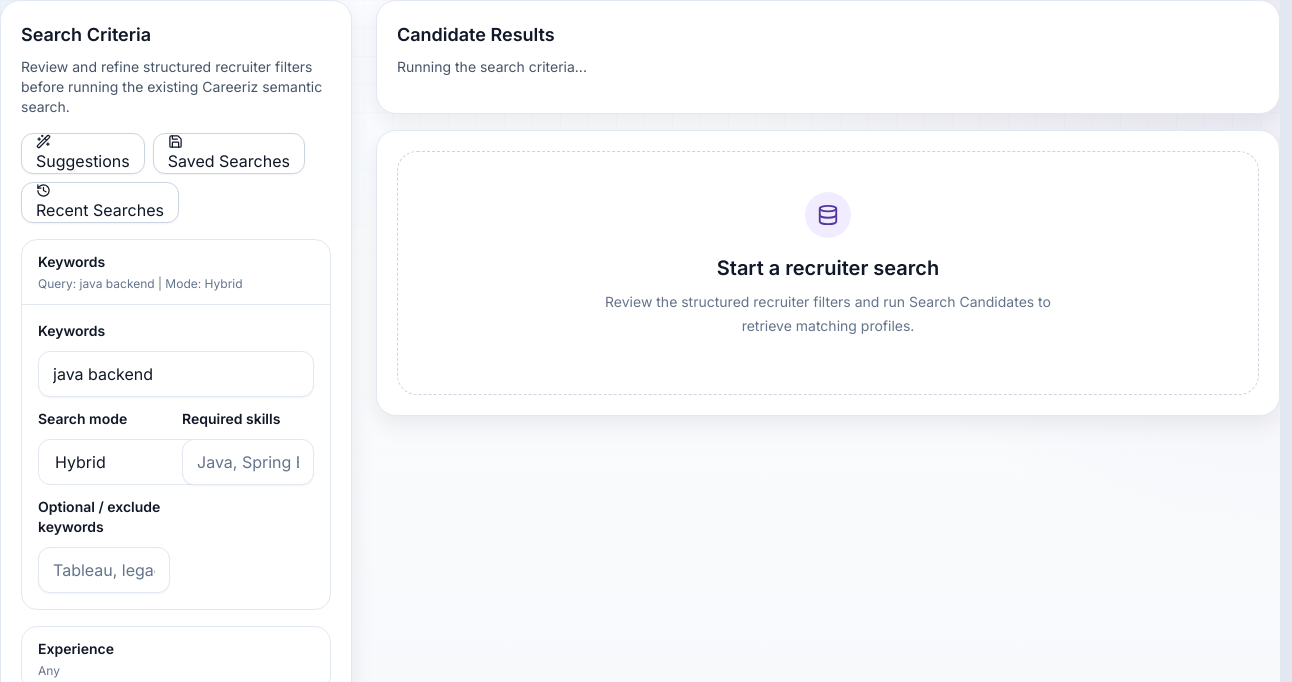
RecruiterSemanticSearchWorkspace › loads suggestions on demand
This screenshot has width=1292, height=682.
Click the button "Suggestions" at (83, 154), box [21,133,145,174]
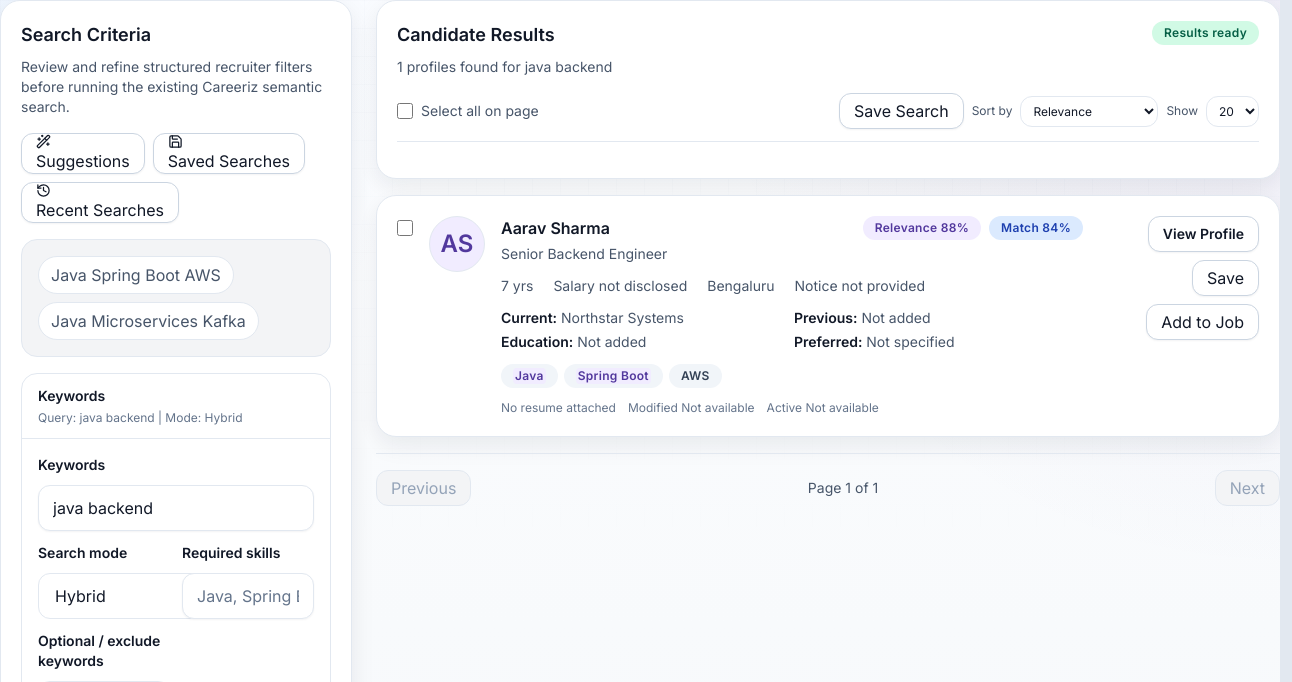
Result: the button "Java Spring Boot AWS" is shown at [38,256,234,294]
